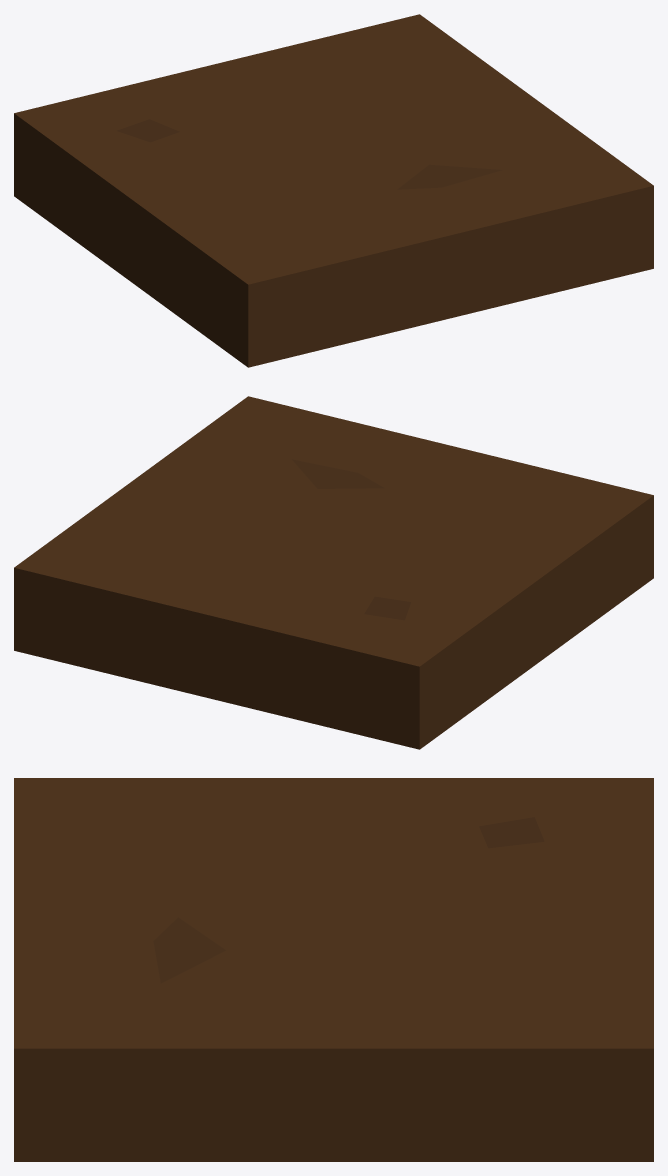
The model's file is Ground_1_2.glb.
3 views of the same model, one above another, from view 1: azimuth 30°, elevation 25°; view 2: azimuth 150°, elevation 25°; view 3: azimuth 270°, elevation 25° (orthographic). The views are drawn at different scales.
Parts seen in each view (by area): view 1: Ground_1_2; view 2: Ground_1_2; view 3: Ground_1_2.
Part boxes in pixels (box(x1,y1,x2,y2)): Ground_1_2: box(14, 14, 653, 367); Ground_1_2: box(14, 396, 653, 749); Ground_1_2: box(14, 778, 653, 1161).
Bounding box in the file's own units: 2 × 0.3912 × 2.
1 material, 1 textured.
